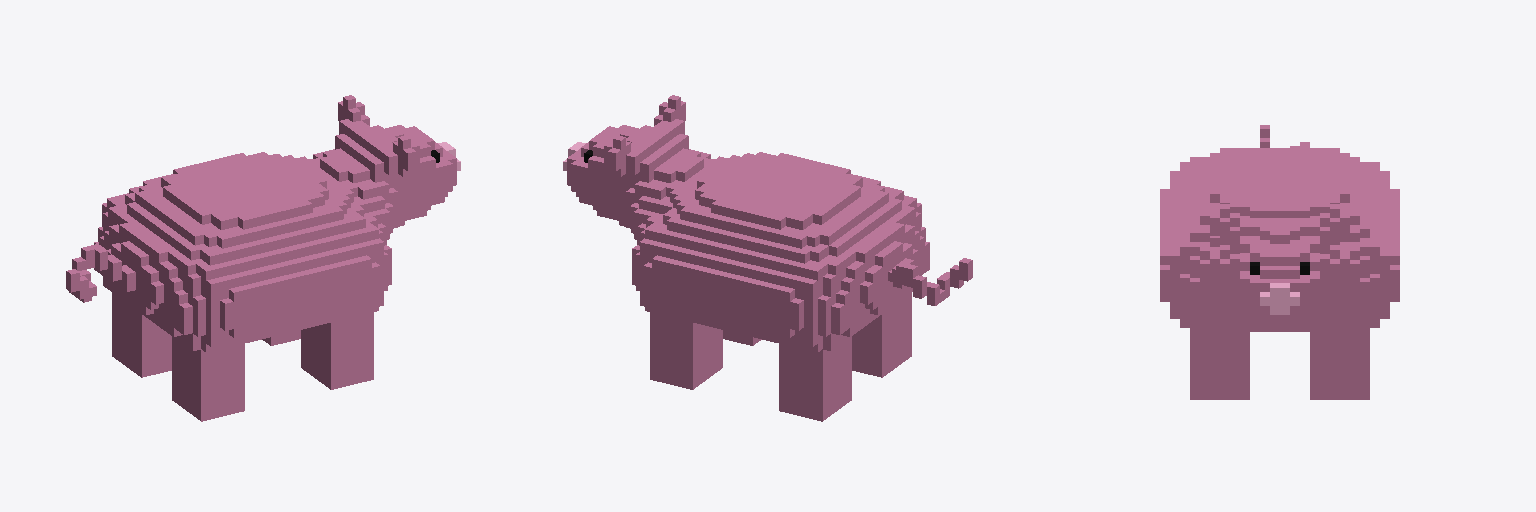
3 renders of one model, left to right at view 1: azimuth 30°, elevation 25°; view 2: azimuth 150°, elevation 25°; view 3: azimuth 270°, elevation 25°, orthographic.
Bounding box in the file's own units: 45 × 24 × 24.
1 materials, 1 textured.